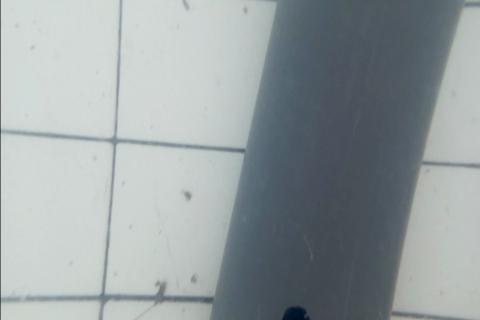kebocoran: (281, 303, 311, 320)
